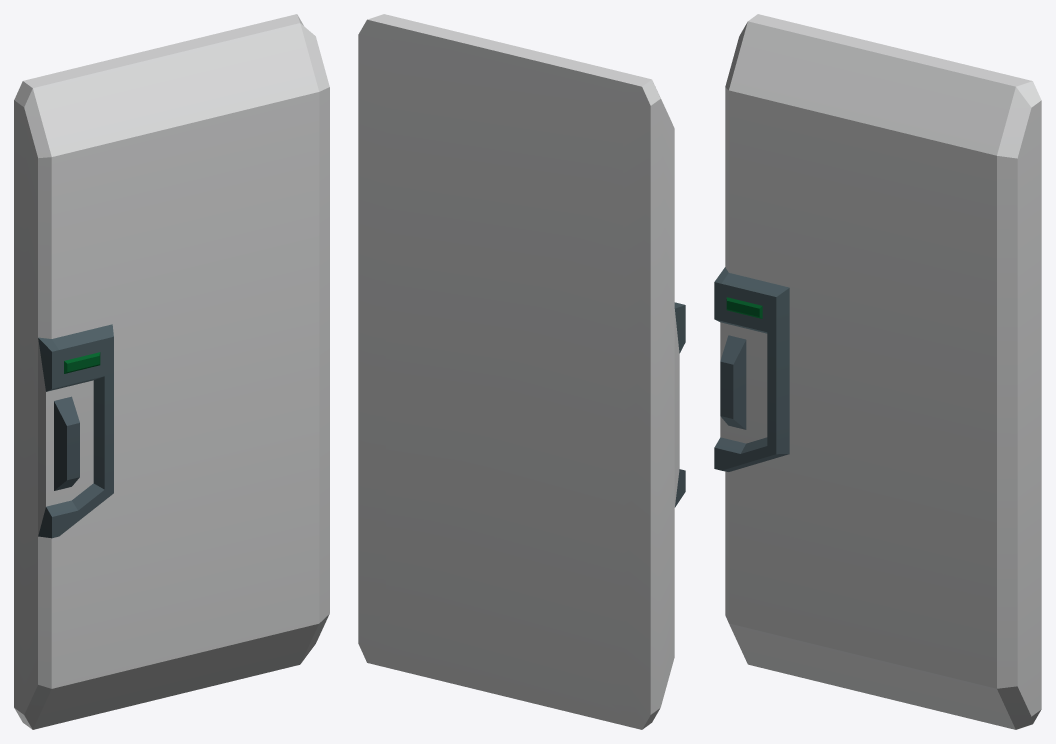
File: Container_type_A_door_008.fbx
3 views of the same model, side by side, from view 1: azimuth 30°, elevation 25°; view 2: azimuth 150°, elevation 25°; view 3: azimuth 330°, elevation 25° (orthographic).
Parts seen in each view (by area): view 1: Container_type_A_door_008; view 2: Container_type_A_door_008; view 3: Container_type_A_door_008.
Boxes of the visible parts, left/top/right/bottom form: Container_type_A_door_008: left=14, top=14, right=329, bottom=729; Container_type_A_door_008: left=358, top=14, right=685, bottom=729; Container_type_A_door_008: left=714, top=14, right=1041, bottom=729.
Size of the model in its own units: 84.16 by 20.43 by 177.
